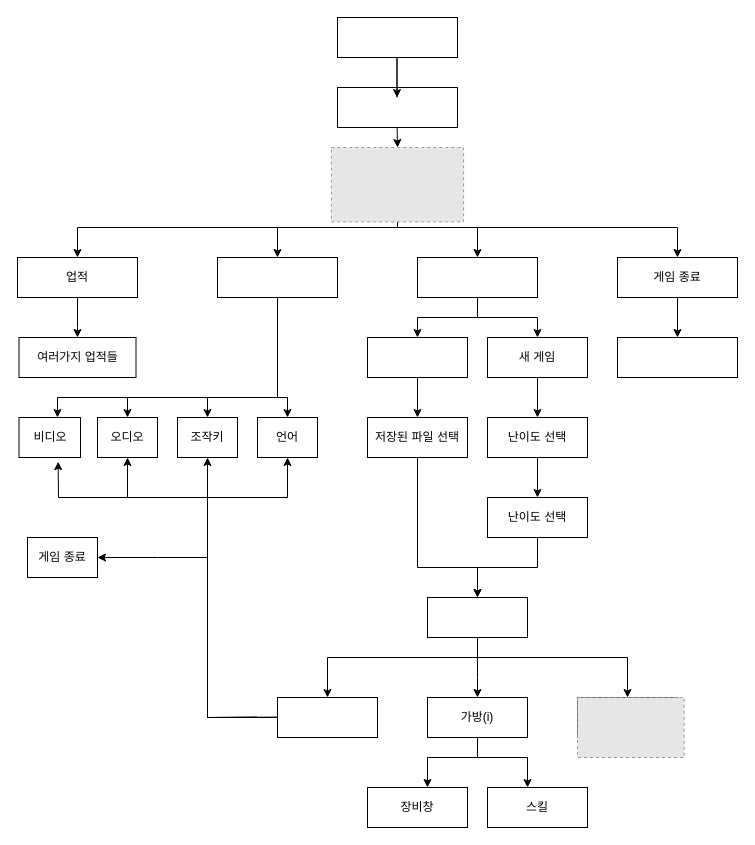
Image size: 755x845. Some labels were removed from this diagram. Grey dashed boxes stand in for pictures. The shapes that lost their labels are listed below. From the top down, each one's centre as x and y in pixels, then its label:
At point 397,37: "게임 아이콘".
At point 397,107: "게임 로딩".
At point 277,277: "옵션".
At point 477,277: "시작하기".
At point 417,357: "불러오기".
At point 677,357: "바탕화면".
At point 477,617: "게임 시작".
At point 327,717: "옵션(esc)".
